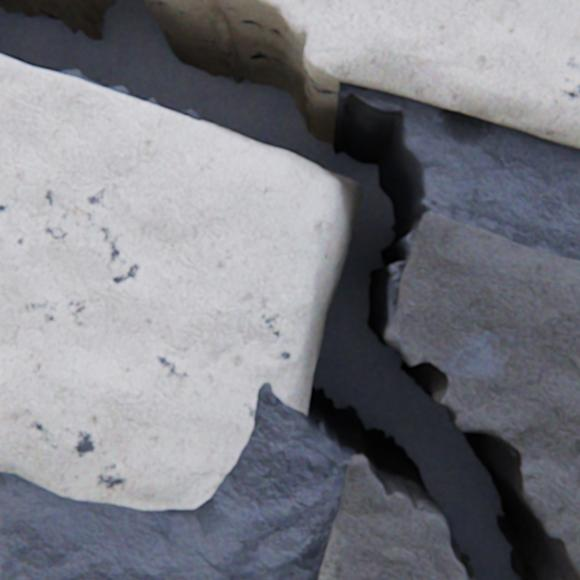brick: (0, 55, 308, 509)
broken_brick: (385, 213, 579, 576), (255, 0, 579, 149), (318, 454, 465, 579)
crack: (0, 0, 579, 579)
